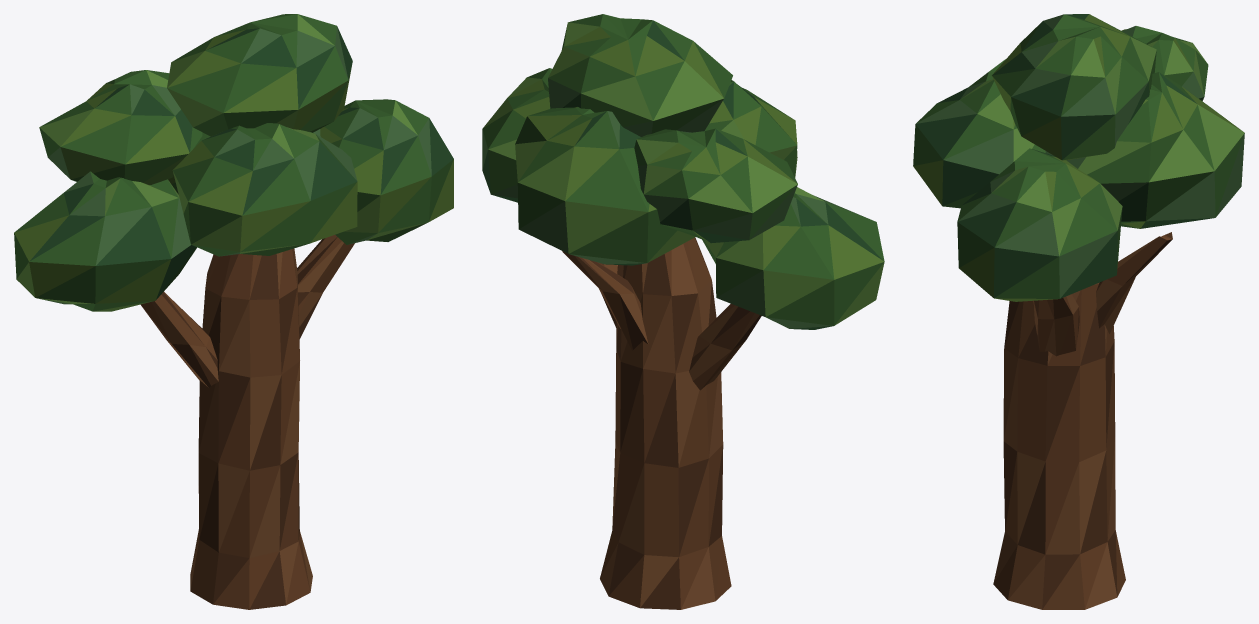
Rendered from tree.obj.
3 views of the same model, side by side, from view 1: azimuth 30°, elevation 25°; view 2: azimuth 150°, elevation 25°; view 3: azimuth 270°, elevation 25° (orthographic). The views are drawn at different scales.
Visible parts, largest first — view 1: Tree; view 2: Tree; view 3: Tree.
Boxes of the visible parts, x1,y1,x2,y2 form: Tree: [14, 14, 453, 609]; Tree: [482, 14, 884, 609]; Tree: [913, 14, 1244, 609].
Bounding box in the file's own units: 2.89 × 3.81 × 2.
